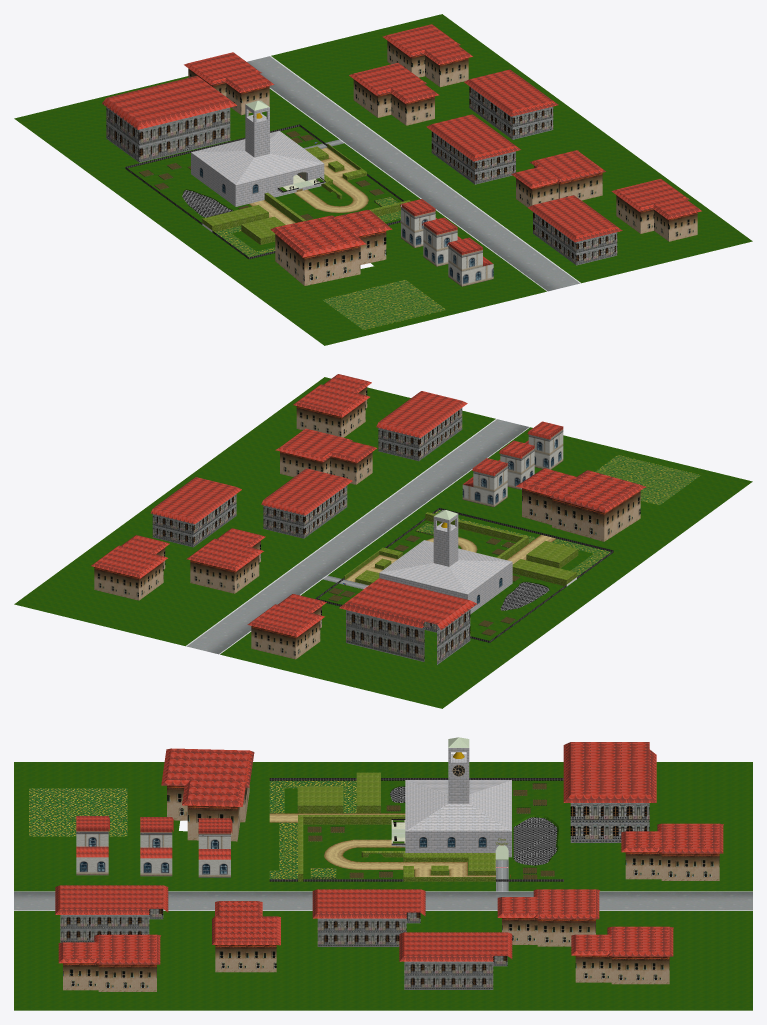
3 views of the same model, one above another, from view 1: azimuth 30°, elevation 25°; view 2: azimuth 150°, elevation 25°; view 3: azimuth 270°, elevation 25° (orthographic). The views are drawn at different scales.
Parts seen in each view (by area): view 1: traualtar2-SKP--grass, traualtar2-SKP--Roof, traualtar2-SKP--house2, traualtar2-SKP--asphalt, traualtar2-SKP--house3, traualtar2-SKP--Altar-outwall, traualtar2-SKP--Flowers, traualtar2-SKP--hedge, traualtar2-SKP--House, traualtar2-SKP--gardenRoad, traualtar2-SKP--fence, traualtar2-SKP--water (+1 smaller); view 2: traualtar2-SKP--grass, traualtar2-SKP--Roof, traualtar2-SKP--house2, traualtar2-SKP--asphalt, traualtar2-SKP--house3, traualtar2-SKP--Altar-outwall, traualtar2-SKP--hedge, traualtar2-SKP--Flowers, traualtar2-SKP--House, traualtar2-SKP--fence, traualtar2-SKP--gardenRoad, traualtar2-SKP--water (+1 smaller); view 3: traualtar2-SKP--grass, traualtar2-SKP--Roof, traualtar2-SKP--house2, traualtar2-SKP--house3, traualtar2-SKP--asphalt, traualtar2-SKP--Altar-outwall, traualtar2-SKP--Flowers, traualtar2-SKP--hedge, traualtar2-SKP--House, traualtar2-SKP--gardenRoad, traualtar2-SKP--water, traualtar2-SKP--fence (+2 smaller).
Boxes of the visible parts, x1,y1,x2,y2 form: traualtar2-SKP--grass: (14, 14, 752, 345); traualtar2-SKP--Roof: (102, 24, 701, 266); traualtar2-SKP--house2: (188, 40, 697, 285); traualtar2-SKP--asphalt: (247, 56, 580, 291); traualtar2-SKP--house3: (106, 86, 617, 265); traualtar2-SKP--Altar-outwall: (191, 104, 325, 206); traualtar2-SKP--Flowers: (215, 196, 446, 329); traualtar2-SKP--hedge: (202, 144, 410, 244); traualtar2-SKP--House: (199, 167, 493, 286); traualtar2-SKP--gardenRoad: (249, 147, 368, 224); traualtar2-SKP--fence: (125, 124, 404, 259); traualtar2-SKP--water: (182, 190, 232, 217); traualtar2-SKP--grass: (14, 377, 752, 708); traualtar2-SKP--Roof: (91, 374, 646, 636); traualtar2-SKP--house2: (94, 386, 640, 659); traualtar2-SKP--asphalt: (186, 419, 529, 654); traualtar2-SKP--house3: (152, 408, 470, 664); traualtar2-SKP--Altar-outwall: (379, 514, 512, 614); traualtar2-SKP--hedge: (344, 512, 578, 585); traualtar2-SKP--Flowers: (416, 455, 700, 576); traualtar2-SKP--House: (462, 429, 563, 604); traualtar2-SKP--fence: (315, 508, 613, 642); traualtar2-SKP--gardenRoad: (345, 535, 556, 581); traualtar2-SKP--water: (500, 582, 549, 610); traualtar2-SKP--grass: (14, 762, 752, 1010); traualtar2-SKP--Roof: (55, 742, 723, 964); traualtar2-SKP--house2: (63, 785, 719, 991); traualtar2-SKP--house3: (60, 803, 649, 989); traualtar2-SKP--asphalt: (14, 829, 752, 910); traualtar2-SKP--Altar-outwall: (391, 748, 511, 857); traualtar2-SKP--Flowers: (29, 780, 356, 879); traualtar2-SKP--hedge: (297, 772, 495, 881); traualtar2-SKP--House: (76, 831, 486, 877); traualtar2-SKP--gardenRoad: (269, 813, 495, 876); traualtar2-SKP--water: (390, 786, 557, 865); traualtar2-SKP--fence: (269, 778, 563, 881).
Size of the model in its own units: 140164 by 26137 by 176051.
Materials: 34 (33 with a texture image).
